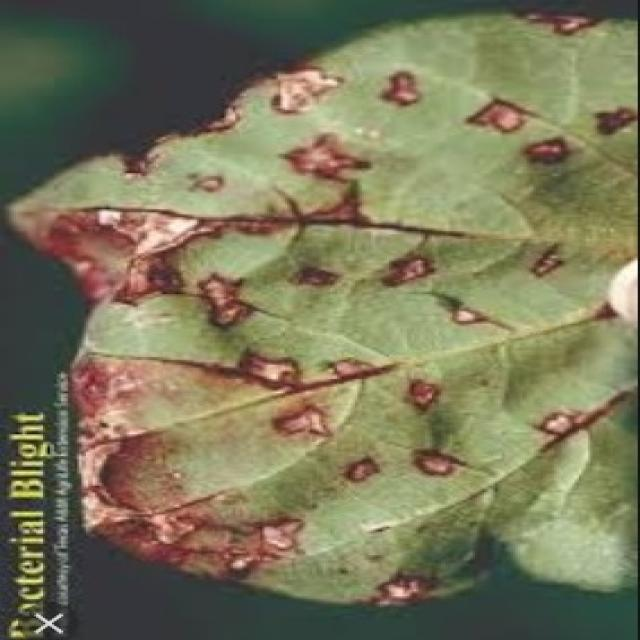Bacterial Blight: (61, 147, 465, 547)
